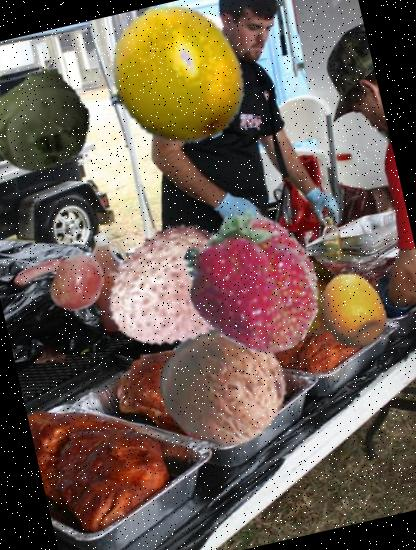Cherry: (42, 246, 115, 319)
Kohlrabi: (0, 54, 102, 181)
Kumquats: (306, 263, 401, 357)
Lychee: (89, 205, 251, 368)
Maracuja: (86, 0, 260, 164)
Peach: (256, 246, 356, 346)
Strawberry: (166, 193, 340, 366)
Walnut: (146, 309, 298, 461)
